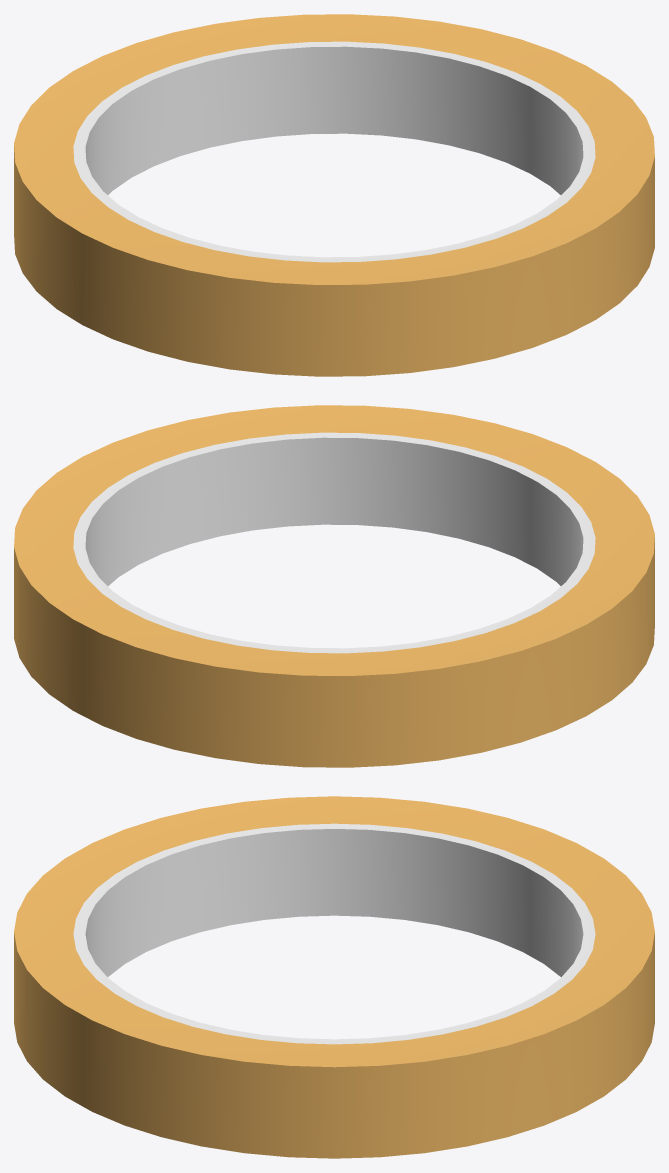
Rendered from Crep.fbx.
3 views of the same model, one above another, from view 1: azimuth 30°, elevation 25°; view 2: azimuth 150°, elevation 25°; view 3: azimuth 270°, elevation 25° (orthographic).
Parts seen in each view (by area): view 1: Torus; view 2: Torus; view 3: Torus.
Boxes of the visible parts, left/top/right/bottom form: Torus: left=14, top=14, right=654, bottom=376; Torus: left=14, top=405, right=654, bottom=767; Torus: left=14, top=796, right=654, bottom=1158.
Bounding box in the file's own units: 17.38 × 2.74 × 17.38.
